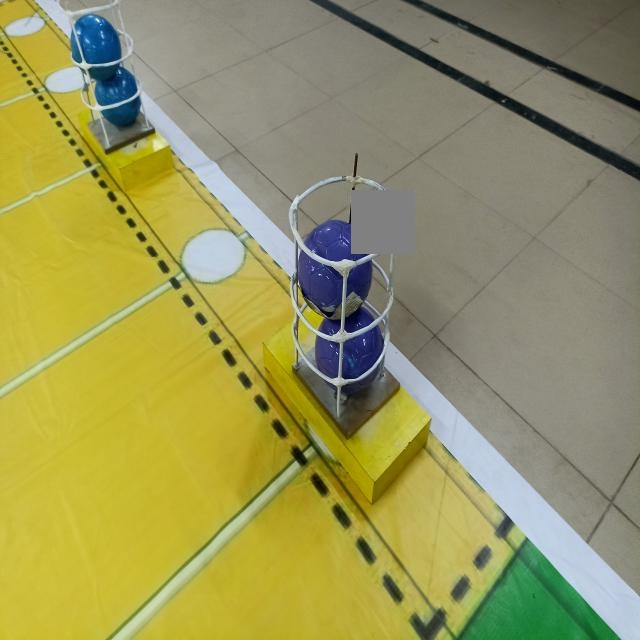blue_ball: (70, 7, 122, 76), (89, 70, 143, 122)
purple_ball: (295, 222, 372, 315), (314, 310, 390, 391)
silo: (288, 159, 404, 421), (68, 0, 148, 146)
